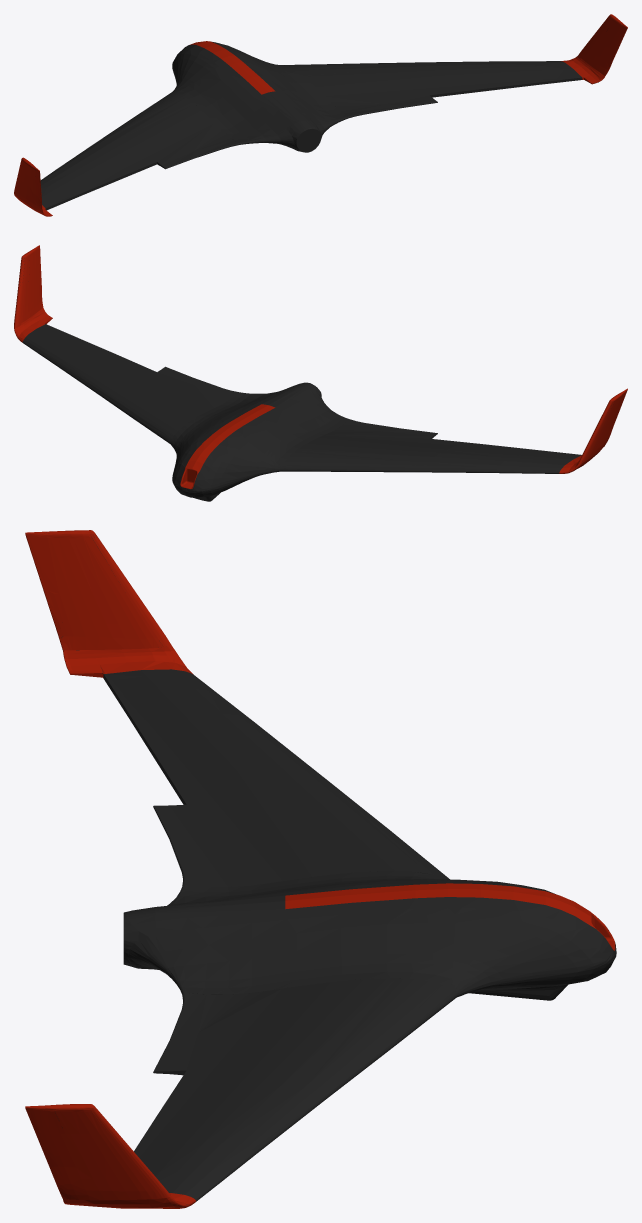
File: x8_body.dae
3 renders of one model, top to bottom at view 1: azimuth 30°, elevation 25°; view 2: azimuth 150°, elevation 25°; view 3: azimuth 270°, elevation 25°, orthographic. The views are drawn at different scales.
Parts seen in each view (by area): view 1: node; view 2: node; view 3: node.
Boxes of the visible parts, x1,y1,x2,y2 form: node: (14, 14, 627, 216); node: (14, 245, 627, 501); node: (25, 530, 616, 1208).
Bounding box in the file's own units: 2.15 × 0.9308 × 0.3074.
